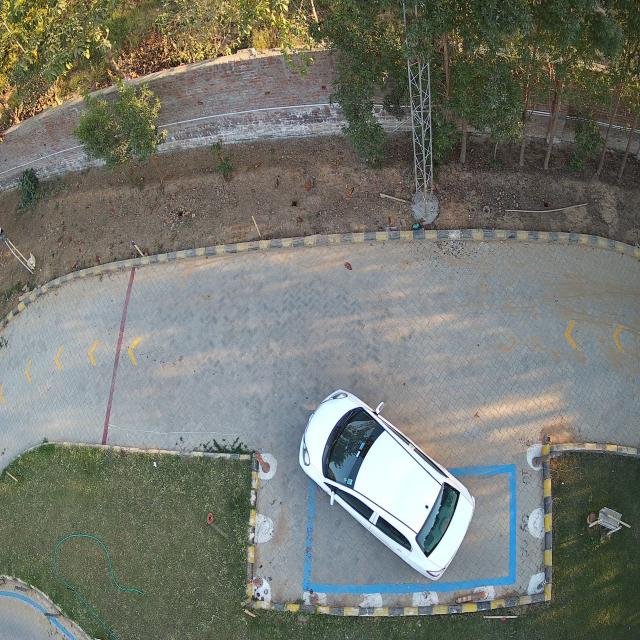car: (298, 391, 474, 579)
